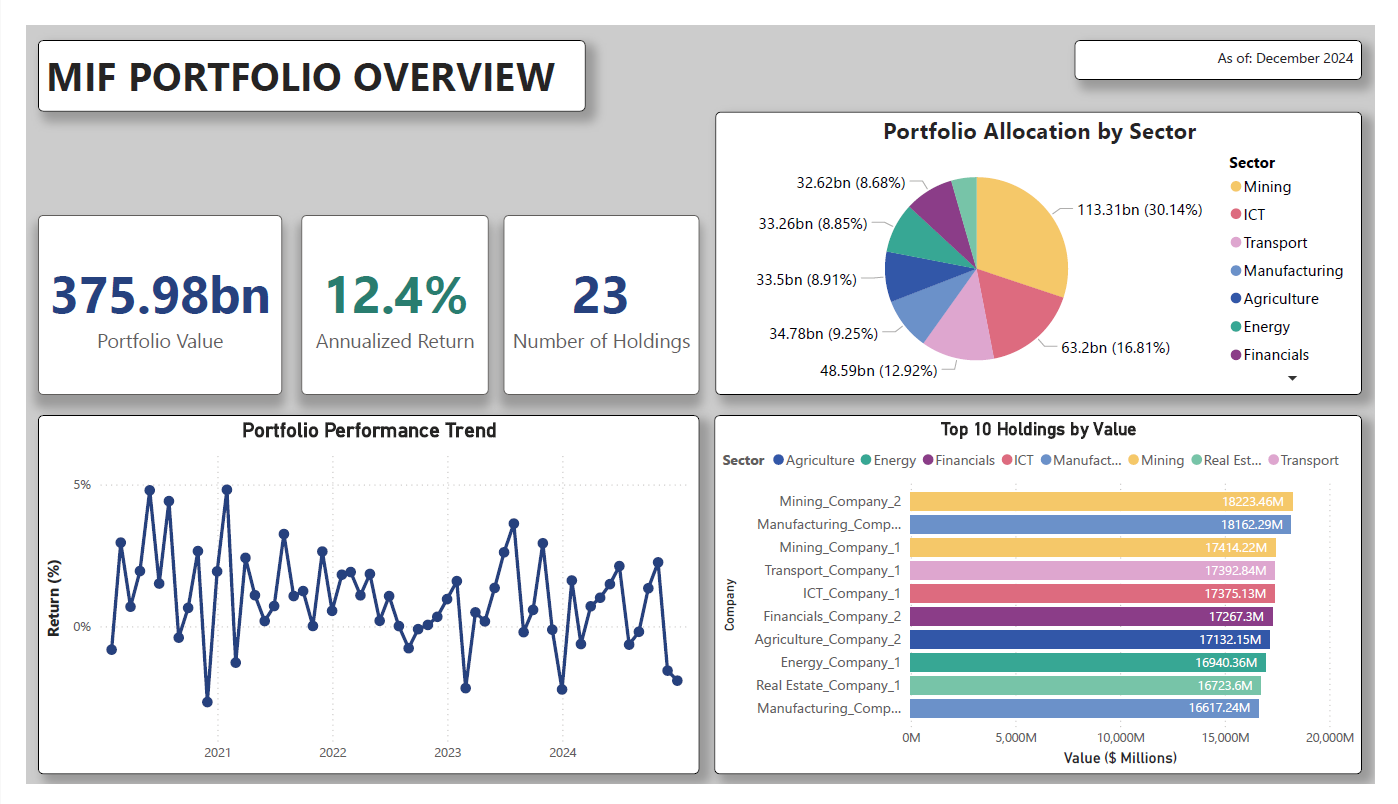

The dashboard page shown, as its layout file describes it:
{"tool":"powerbi","page":{"name":"EXECUTIVE OVERVIEW","canvas":[1280,720],"ordinal":0},"visuals":[{"type":"card","fields":{"Values":["powerbi_fact_performance.Portfolio Value"]},"box":[11,179.8,231.9,171.5],"z":0},{"type":"card","fields":{"Values":["powerbi_fact_performance.Annualized Return"]},"box":[260.7,179.8,178.4,171.5],"z":1000},{"type":"card","fields":{"Values":["powerbi_fact_performance.Number of Holdings"]},"box":[452.8,179.8,186.6,171.5],"z":2000},{"type":"pieChart","title":"Portfolio Allocation by Sector","fields":{"Category":["powerbi_dim_sectors.Sector"],"Y":["Sum(powerbi_fact_performance.Asset_Value)"]},"box":[653.6,82.1,614.3,269],"z":3000},{"type":"lineChart","title":"Portfolio Performance Trend","fields":{"Y":["powerbi_fact_performance.Total Return"],"Category":["powerbi_fact_performance.Date.Variation.Date Hierarchy.Month"]},"box":[11,370.5,628.5,340.3],"z":4000},{"type":"barChart","title":"Top 10 Holdings by Value","fields":{"Category":["powerbi_dim_companies.Company"],"Y":["Sum(powerbi_fact_performance.Asset_Value)"],"Series":["powerbi_dim_sectors.Sector"]},"box":[653.2,370.5,614.8,340.3],"z":5000},{"type":"textbox","box":[10.7,14.3,520.2,67.9],"z":6000},{"type":"textbox","box":[994.9,13.7,273.1,38.4],"z":7000}]}

Visuals, with their boxes in screenshot pixels (x1, y1, x2, y2), scaled from the page's 1280x720 canvas onto the 1398x804 screenshot:
card - powerbi_fact_performance.Portfolio Value: [12,201,265,392]
card - powerbi_fact_performance.Annualized Return: [285,201,480,392]
card - powerbi_fact_performance.Number of Holdings: [495,201,698,392]
"Portfolio Allocation by Sector" pieChart: [714,92,1385,392]
"Portfolio Performance Trend" lineChart: [12,414,698,794]
"Top 10 Holdings by Value" barChart: [713,414,1385,794]
textbox: [12,16,580,92]
textbox: [1087,15,1385,58]
